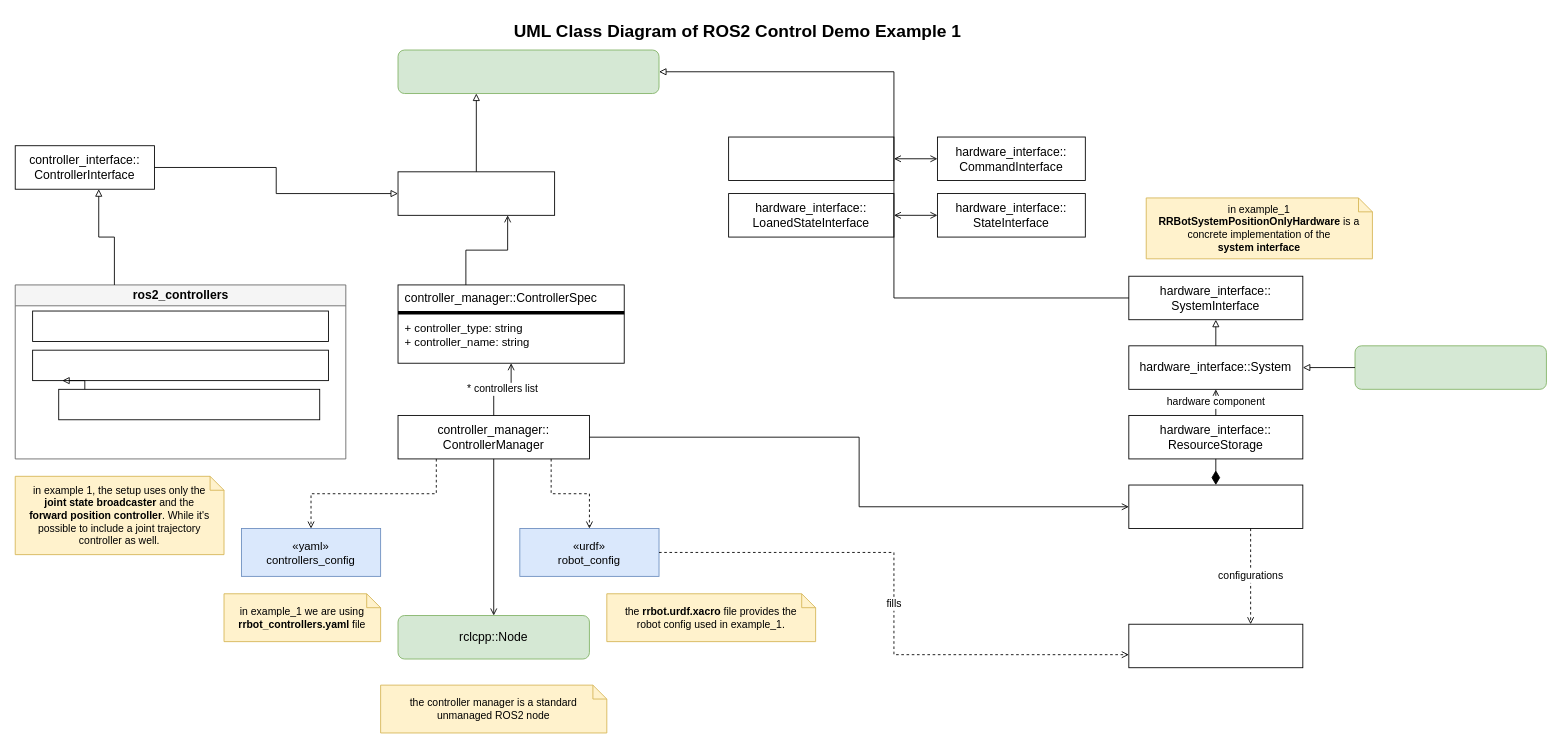
The diagram is 1564 pixels wide and 748 high, and some of its shapes have lost their labels. Here are the shapes that lost their labels. From the top down, the centre of each, then its label:
point 528,71: rclcpp_lifecycle::node_interfaces:: LifecycleNodeInterface
point 811,158: hardware_interface:: LoanedCommandInterface
point 476,193: controller_interface:: ControllerInterfaceBase
point 180,325: joint_state_broadcaster:: JointStateBroadcaster
point 180,365: forward_command_controller:: ForwardControllersBase
point 1450,367: RRBotSystemPositionOnlyHardware
point 189,404: forward_command_controller:: ForwardCommandController
point 1215,506: hardware_interface:: ResourceManager
point 1215,645: hardware_interface:: HardwareInfo
